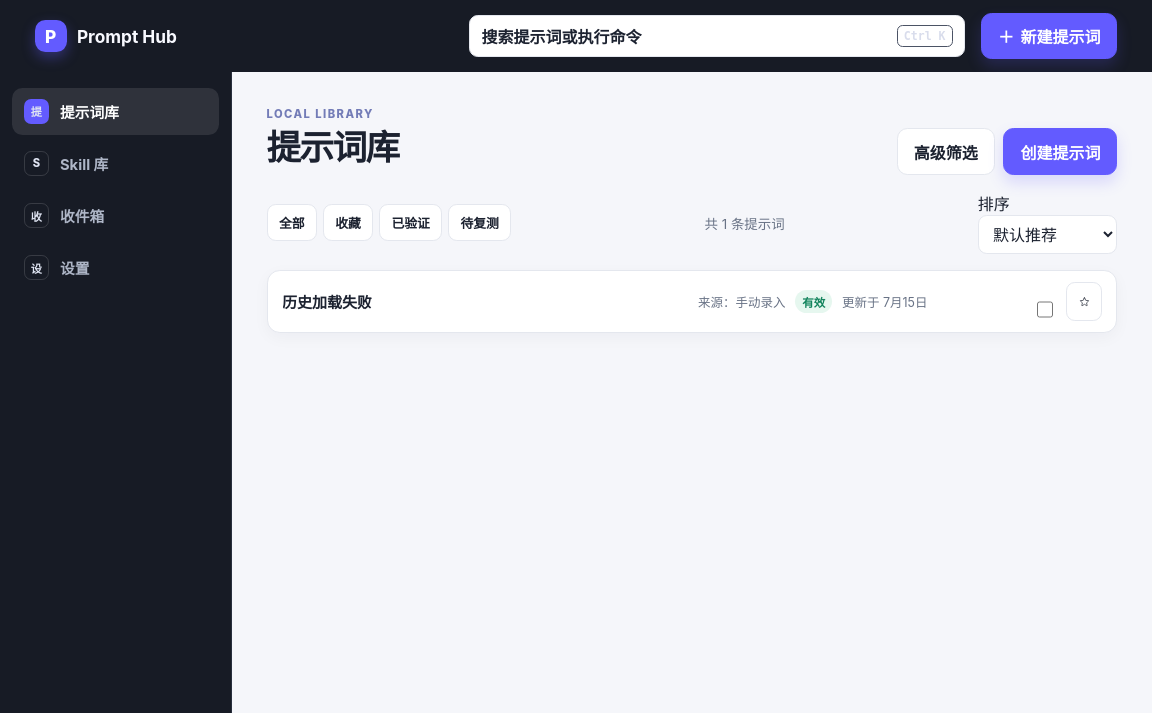
Test case: App › shows a retryable error when a prompt history load fails
Click the button with aria-label "打开提示词：历史加载失败". click: [327, 302]
box: [282,291,372,312]
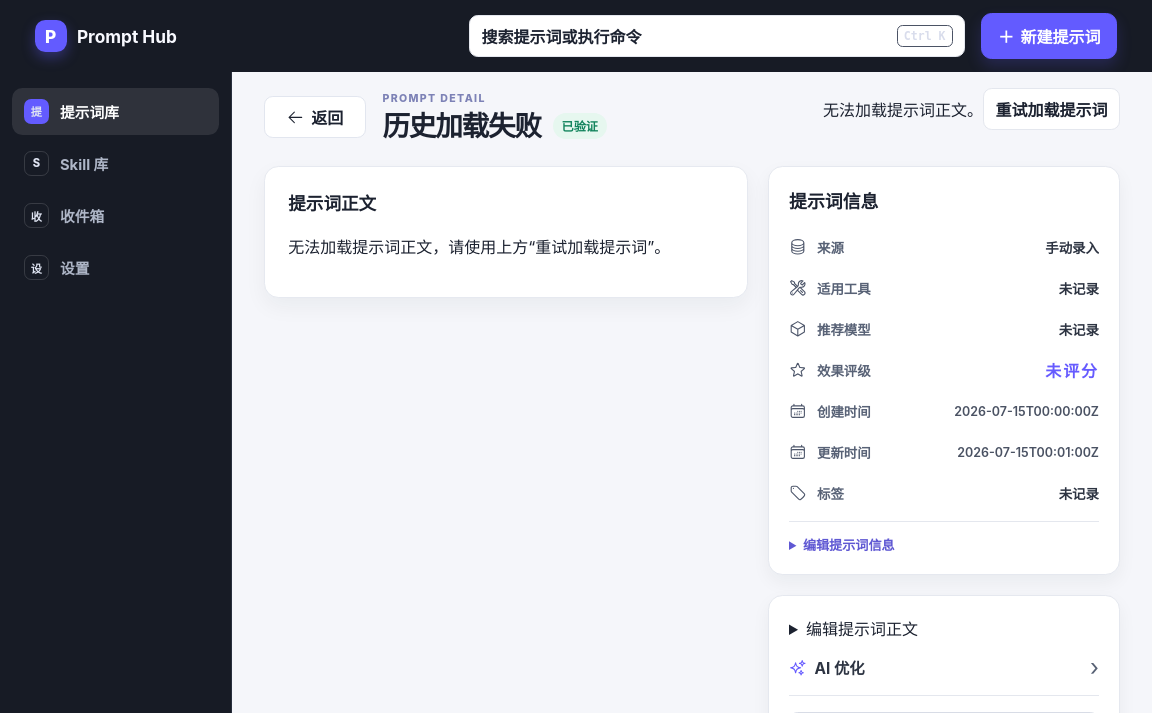
expect the message shows "无法加载提示词正文": met, box [823,100,983,120]
expect the button "重试加载提示词" is shown: met, box [983,88,1120,130]
